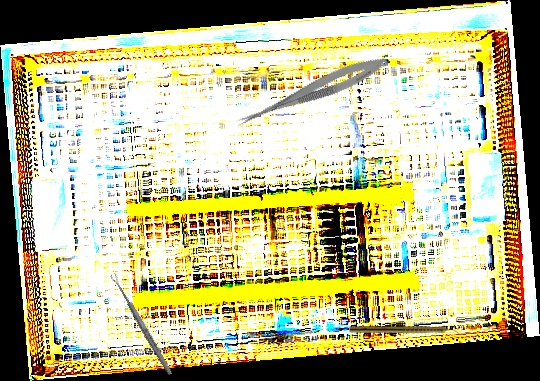Handpiece: (349, 326, 459, 335)
Micro Scissor: (233, 50, 391, 136)
Surgical Spoon: (109, 272, 174, 376)
